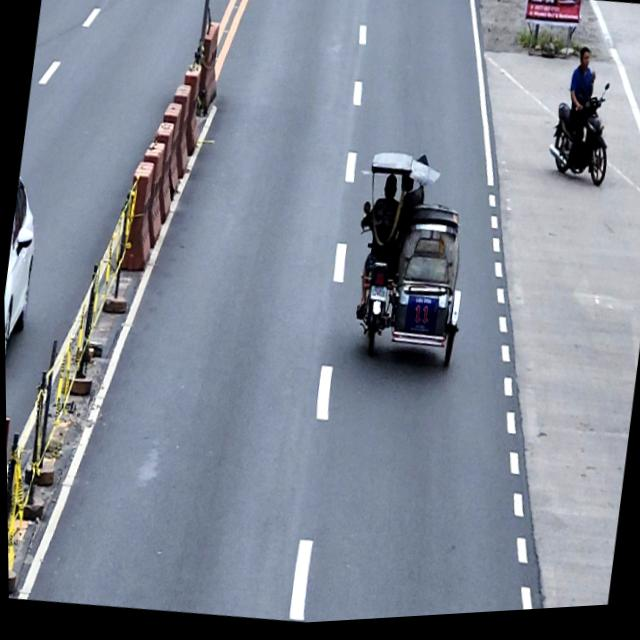Car: (2, 174, 45, 375)
License-Plate: (368, 288, 387, 308)
Motorcycle: (543, 80, 618, 197)
Tricycle: (339, 147, 482, 379)
